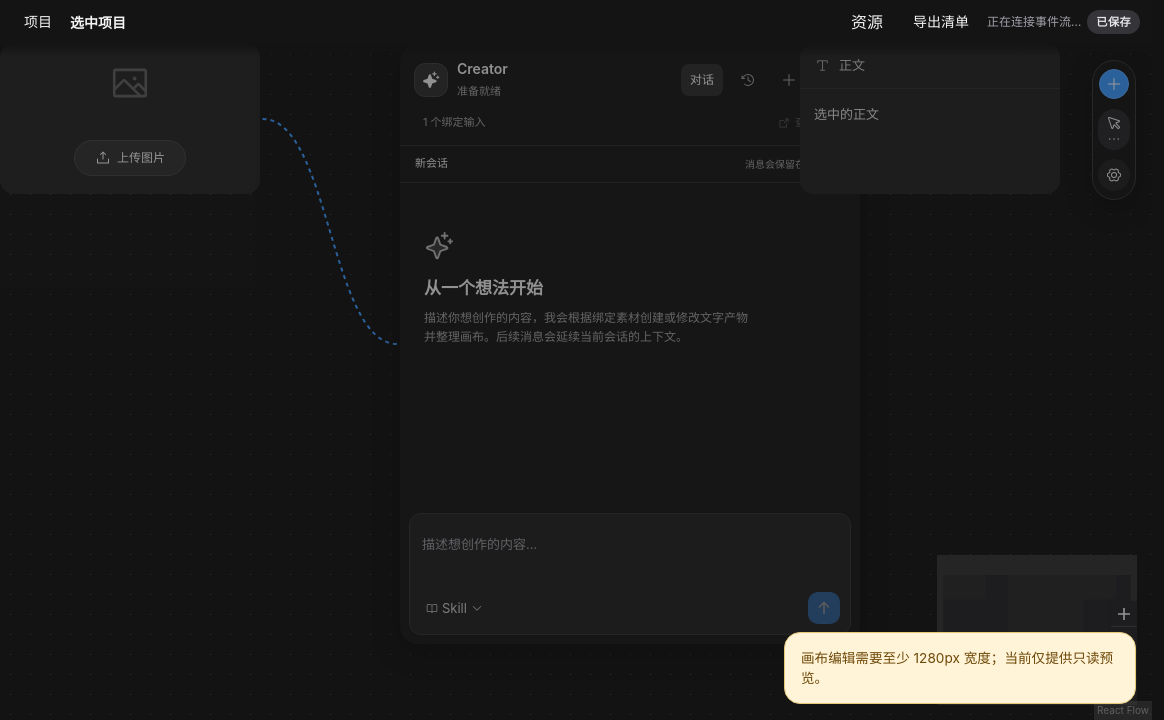
Test: canvas interaction tools › selects on the first click after 0 pixels of pointer drift
Press the mouse on the element showing "参考图 上传图片": (130, 119) [0, 44, 260, 194]
Click the element showing "参考图 上传图片": (130, 119) [0, 44, 260, 194]
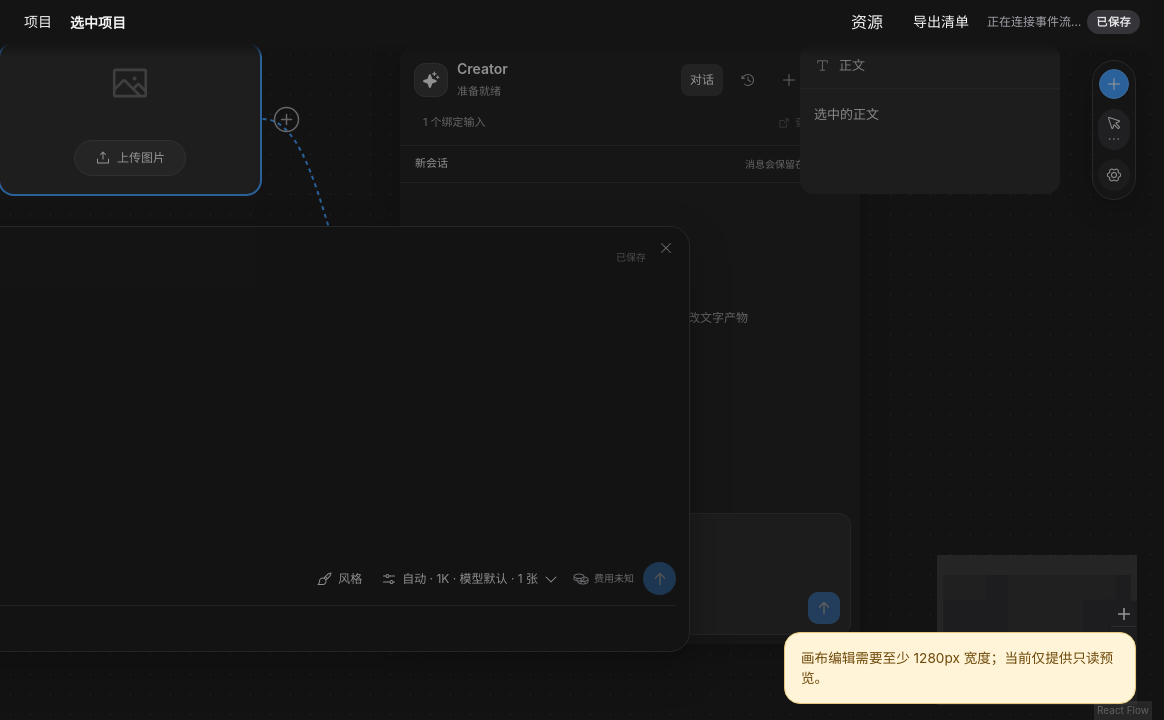
Now the element named "所选卡片编辑区" is shown, box [0, 226, 690, 652]
